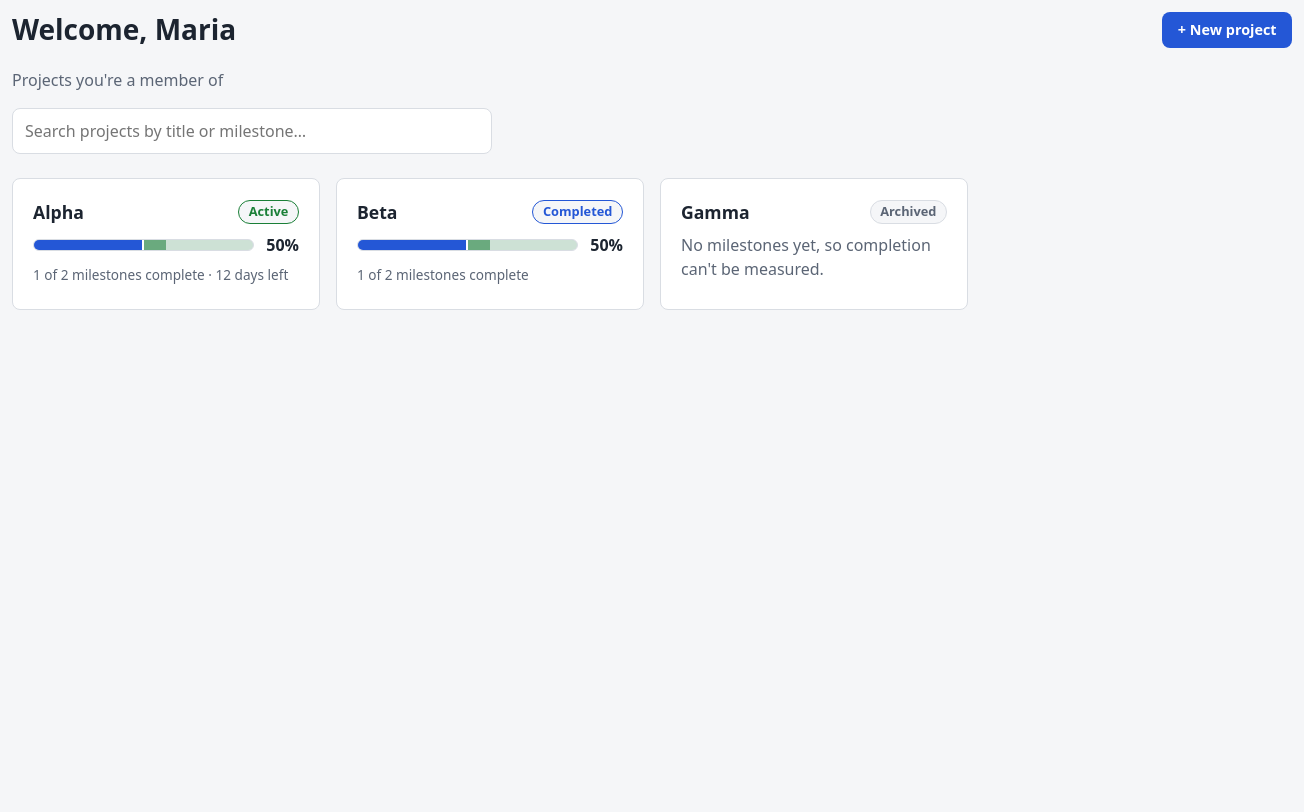
Test: ProjectsPage › opens and cancels the new project form
The width and height of the screenshot is (1304, 812).
Step 1. Click the button "+ New project" → (1227, 30), box [1162,12,1292,48]
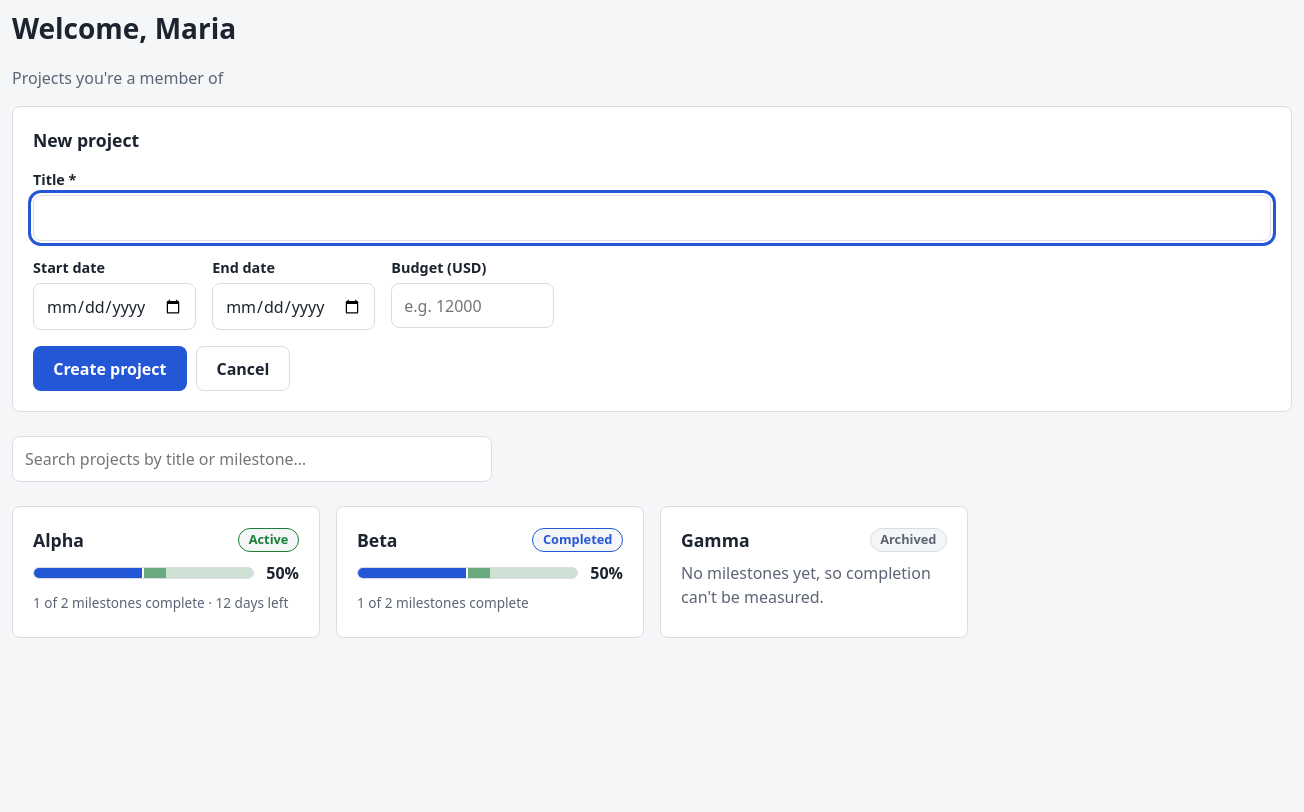
Check: the heading "New project" is shown, box [33,128,139,152]
Check: the button "+ New project" is gone
Step 2. Click the button "Cancel" → (243, 369), box [196,346,290,391]
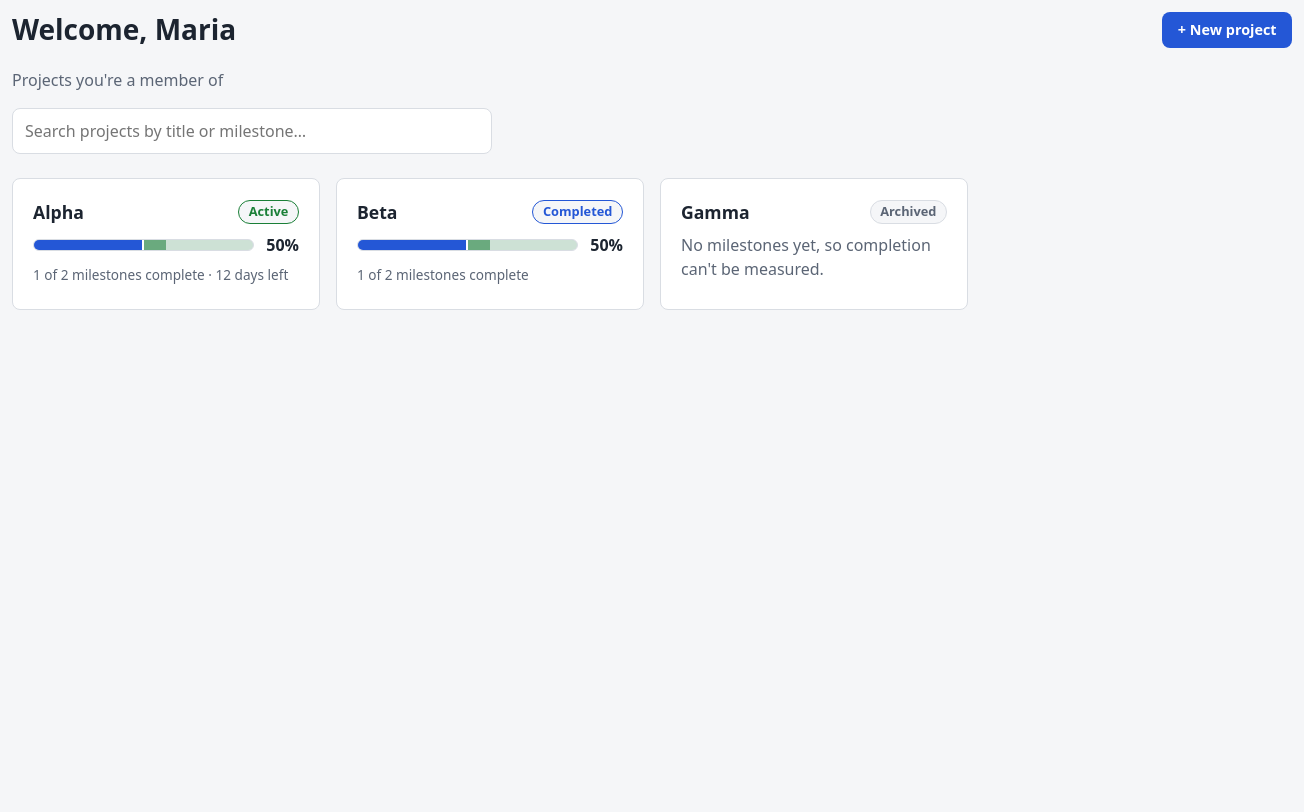
Check: the button "+ New project" is shown, box [1162,12,1292,48]
